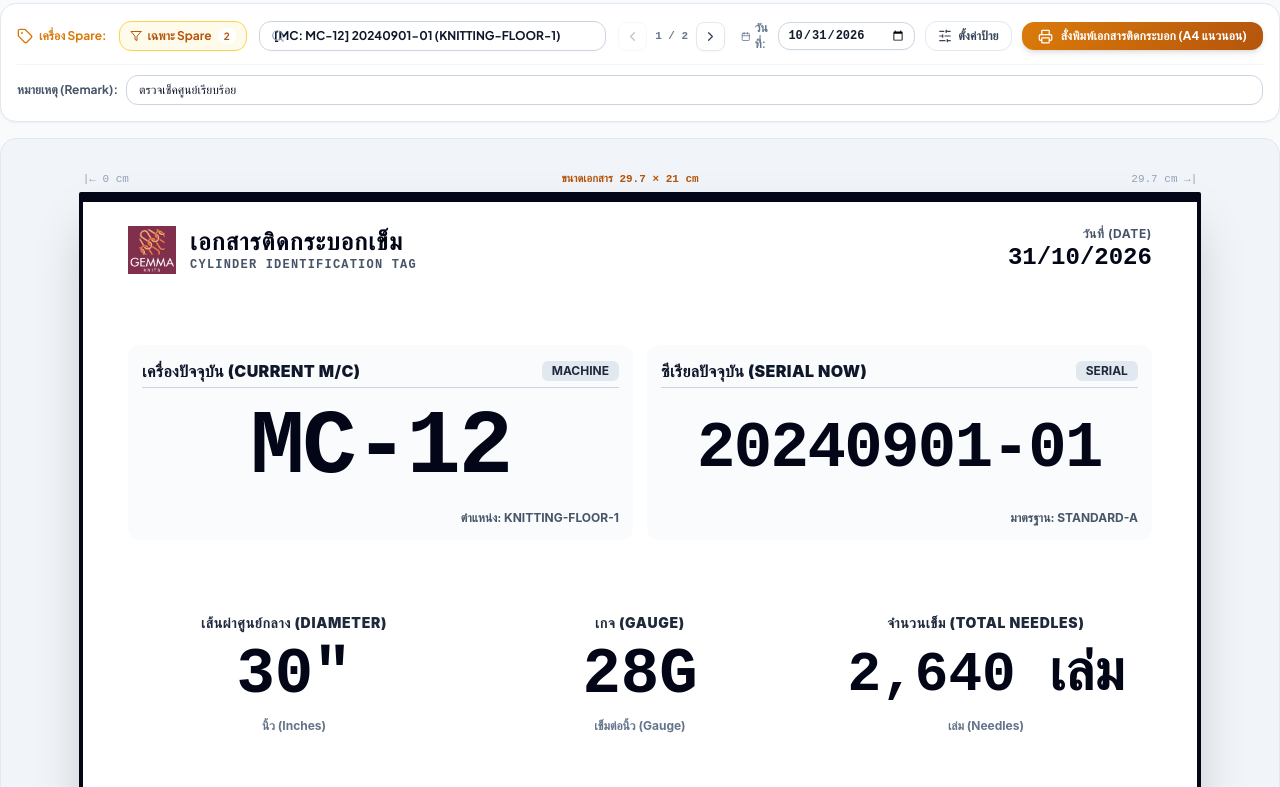
Scenario: CylinderTagView Component (Customizable Tack Spare Tag) › allows real-time editing of remark and date
Step 1. Replace the text in the field with placeholder "พิมพ์ข้อความหมายเหตุเพิ่มเติมสำหรับติดกระบอก..." with "เปลี่ยนเข็มใหม่ครบชุด 100%" → [694, 90], box [126,75,1263,105]
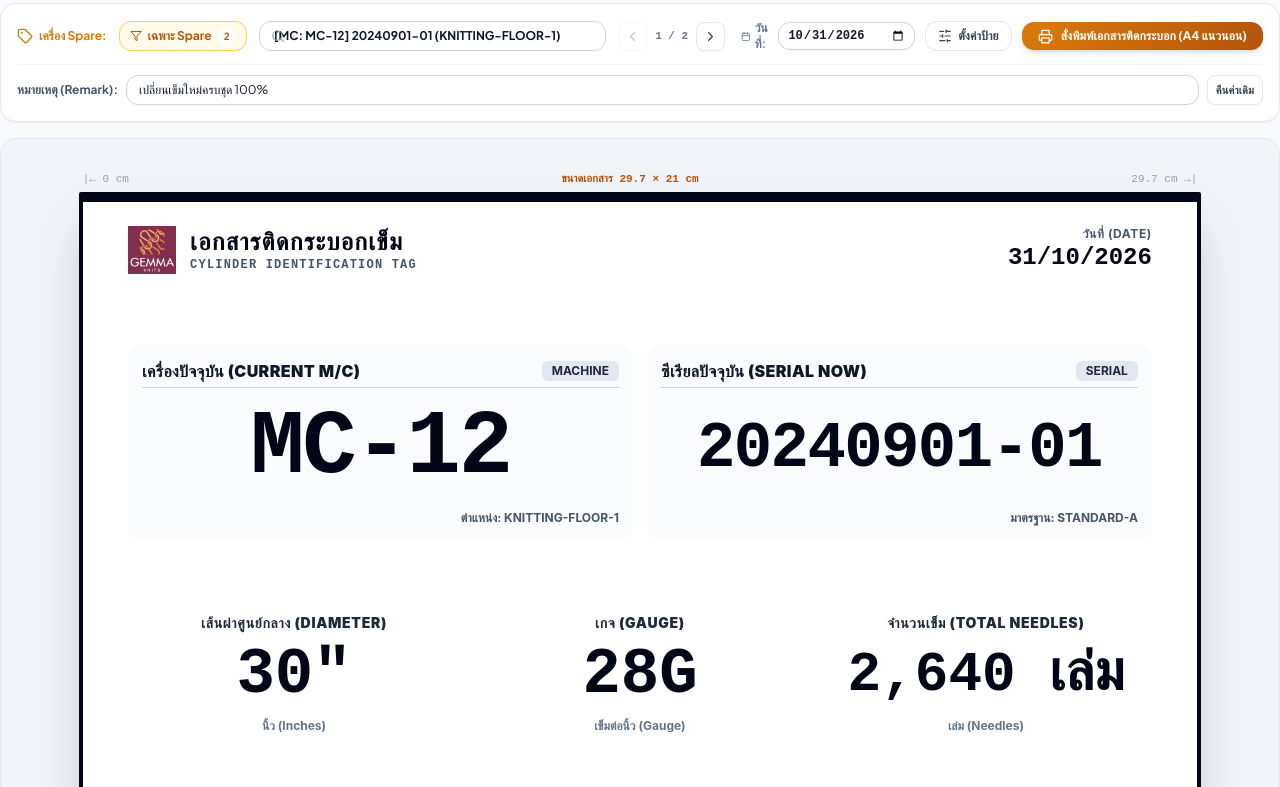
Step 2. Type "2026-12-31" into the date field named "วันที่พิมพ์" → [847, 36], box [778,22,915,50]
(page scrolled)
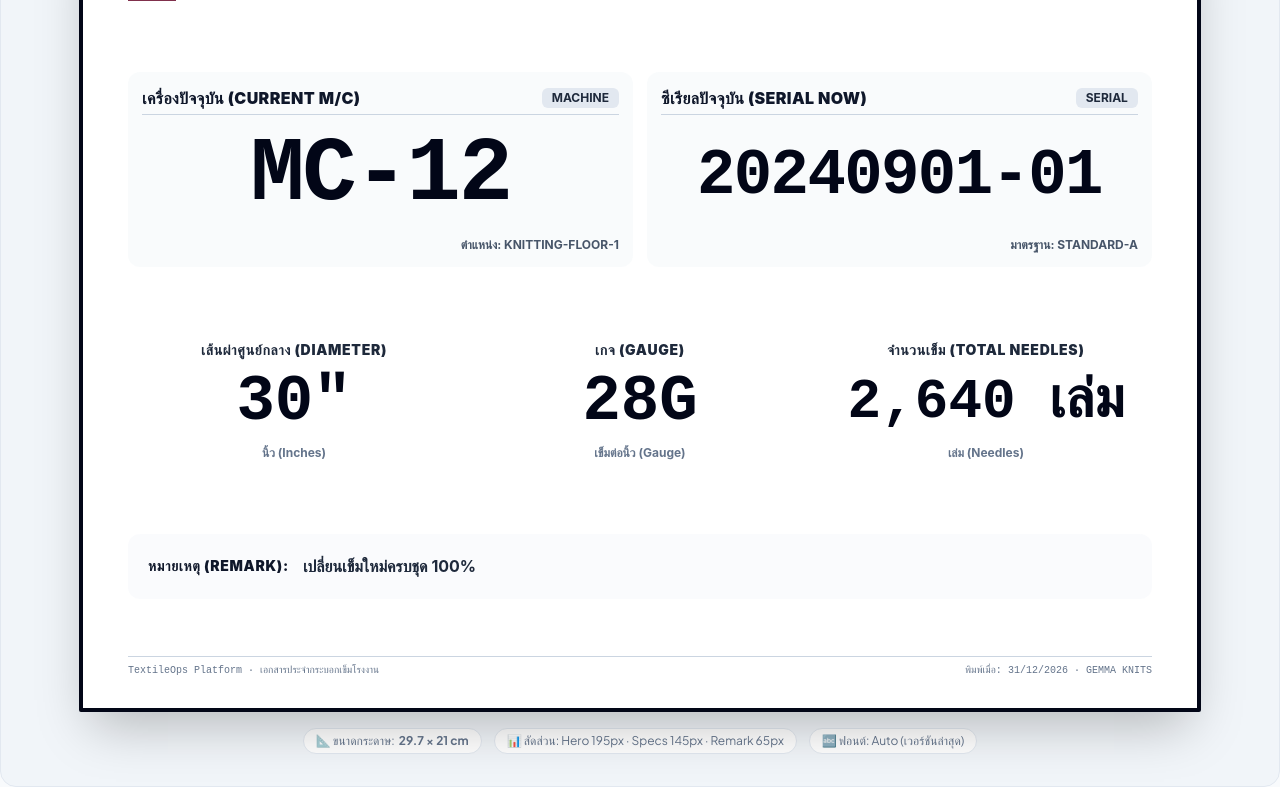
Now the text "พิมพ์เมื่อ: 31/12/2026 · GEMMA KNITS" is shown, box [965,663,1152,678]
